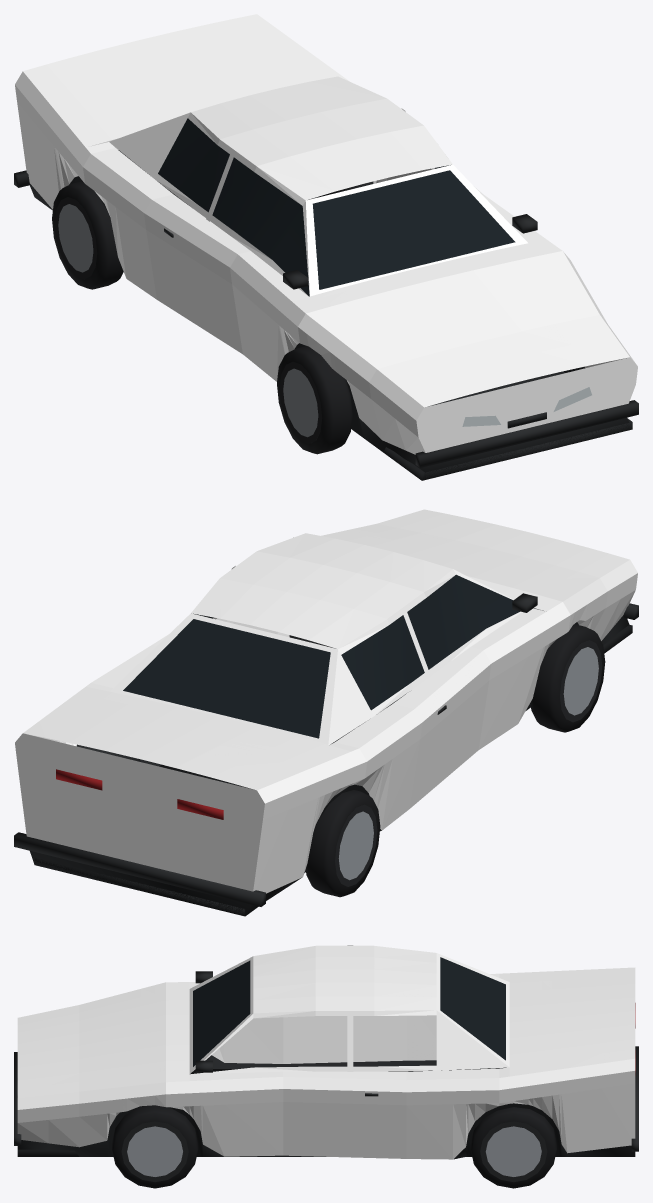
The model's file is keldorf_coral.glb.
3 views of the same model, one above another, from view 1: azimuth 30°, elevation 25°; view 2: azimuth 150°, elevation 25°; view 3: azimuth 270°, elevation 25° (orthographic). The views are drawn at different scales.
Parts seen in each view (by area): view 1: Body_Paint, Body_Details, Mount_FrontLeft_Wheel_Details, Mount_RearLeft_Wheel_Details; view 2: Body_Paint, Body_Details, Mount_RearLeft_Wheel_Details, Mount_FrontLeft_Wheel_Details; view 3: Body_Paint, Body_Details, Mount_FrontRight_Wheel_Details, Mount_RearRight_Wheel_Details.
Boxes of the visible parts, box(x1,y1,x2,y2) form: Body_Paint: box(15, 14, 637, 454); Body_Details: box(14, 118, 638, 480); Mount_FrontLeft_Wheel_Details: box(277, 346, 352, 454); Mount_RearLeft_Wheel_Details: box(52, 181, 123, 289); Body_Paint: box(15, 509, 637, 893); Body_Details: box(14, 574, 638, 916); Mount_RearLeft_Wheel_Details: box(305, 790, 380, 897); Mount_FrontLeft_Wheel_Details: box(530, 624, 605, 732); Body_Paint: box(17, 945, 635, 1159); Body_Details: box(14, 957, 638, 1159); Mount_FrontRight_Wheel_Details: box(112, 1105, 198, 1188); Mount_RearRight_Wheel_Details: box(470, 1107, 556, 1188).
Size of the model in its own units: 1.97 by 1.33 by 4.7.
Materials: 2 (1 with a texture image).
